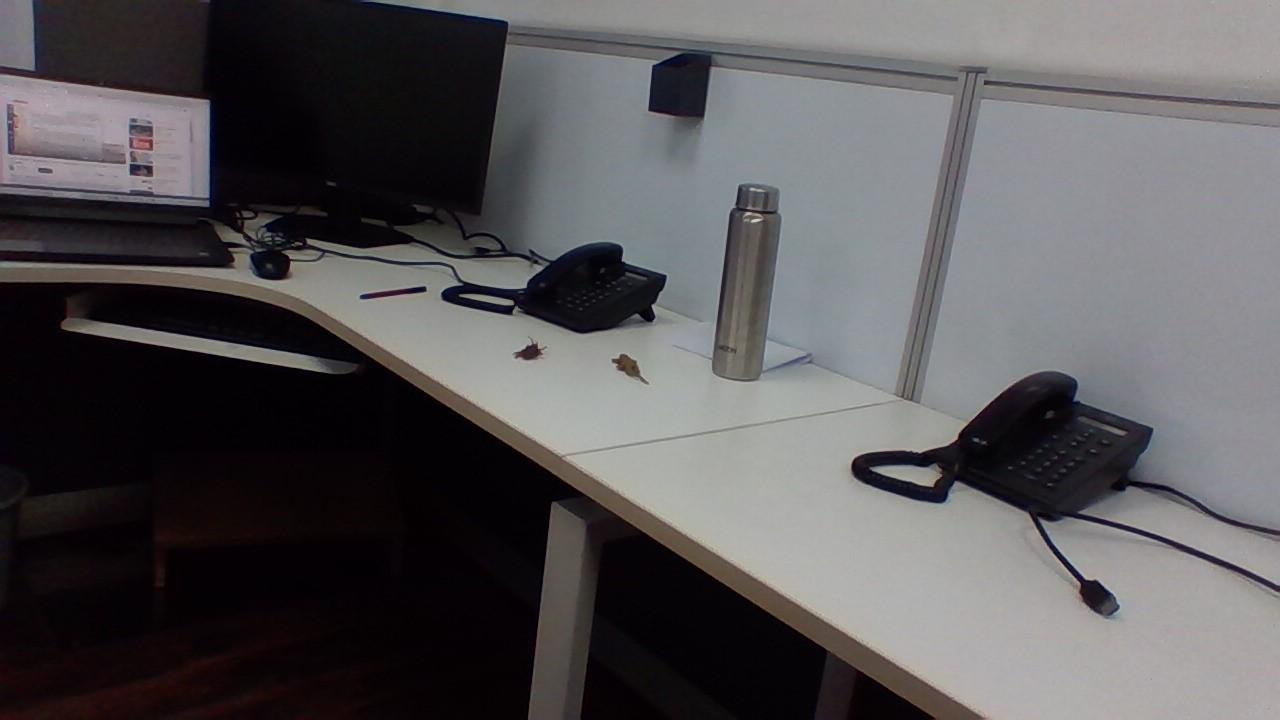cockroach: (512, 335, 547, 368)
lizard: (610, 350, 650, 386)
